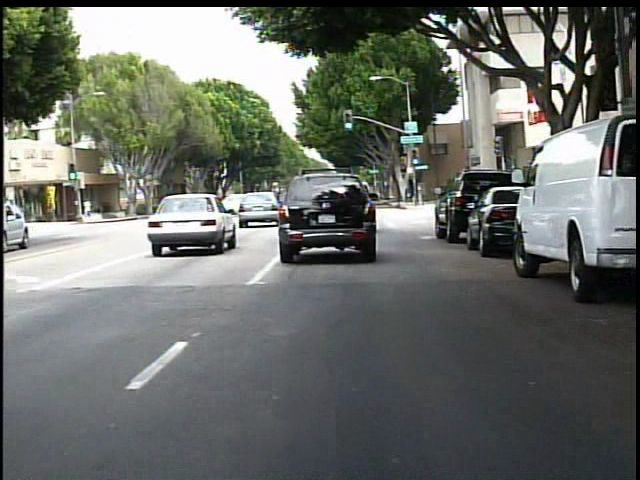person: (84, 195, 96, 221)
